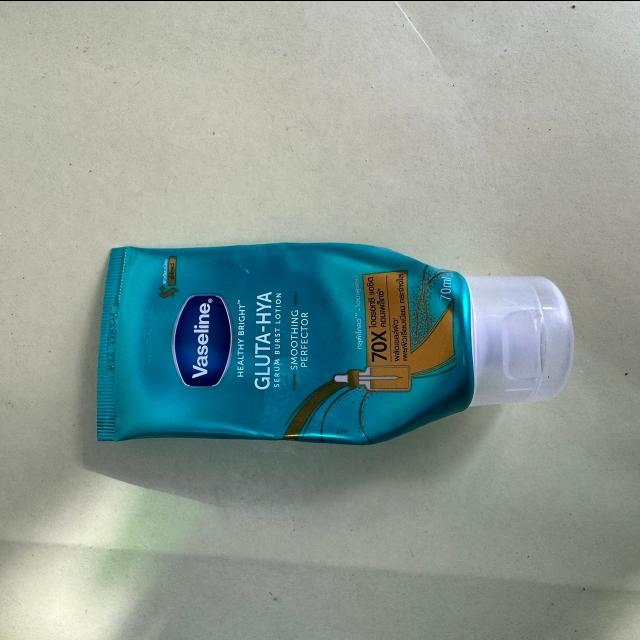Squeeze Tube: (88, 238, 592, 449)
